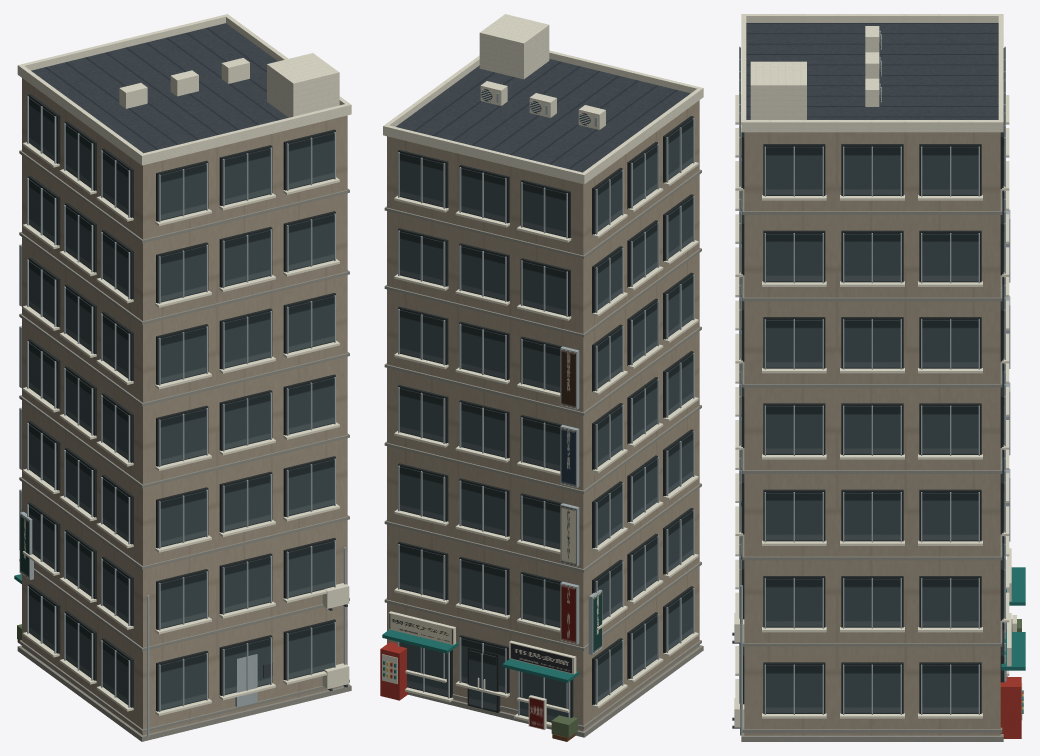
Rendered from office_005.obj.
3 views of the same model, side by side, from view 1: azimuth 30°, elevation 25°; view 2: azimuth 150°, elevation 25°; view 3: azimuth 270°, elevation 25° (orthographic). The views are drawn at different scales.
Parts seen in each view (by area): view 1: office_005; view 2: office_005; view 3: office_005.
Boxes of the visible parts, bbox=[...] form: office_005: bbox=[14, 14, 351, 741]; office_005: bbox=[380, 14, 703, 741]; office_005: bbox=[732, 14, 1025, 741].
Bounding box in the file's own units: 8.57 × 23.05 × 9.4.
1 material, 1 textured.
